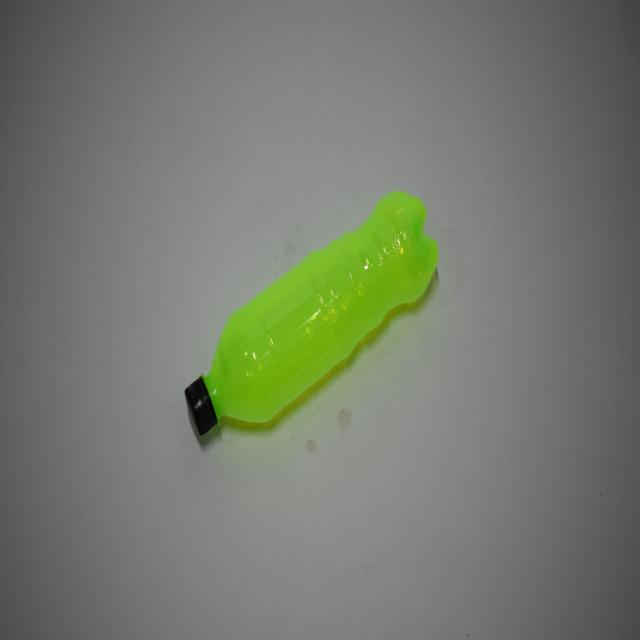empty: (185, 192, 438, 436)
